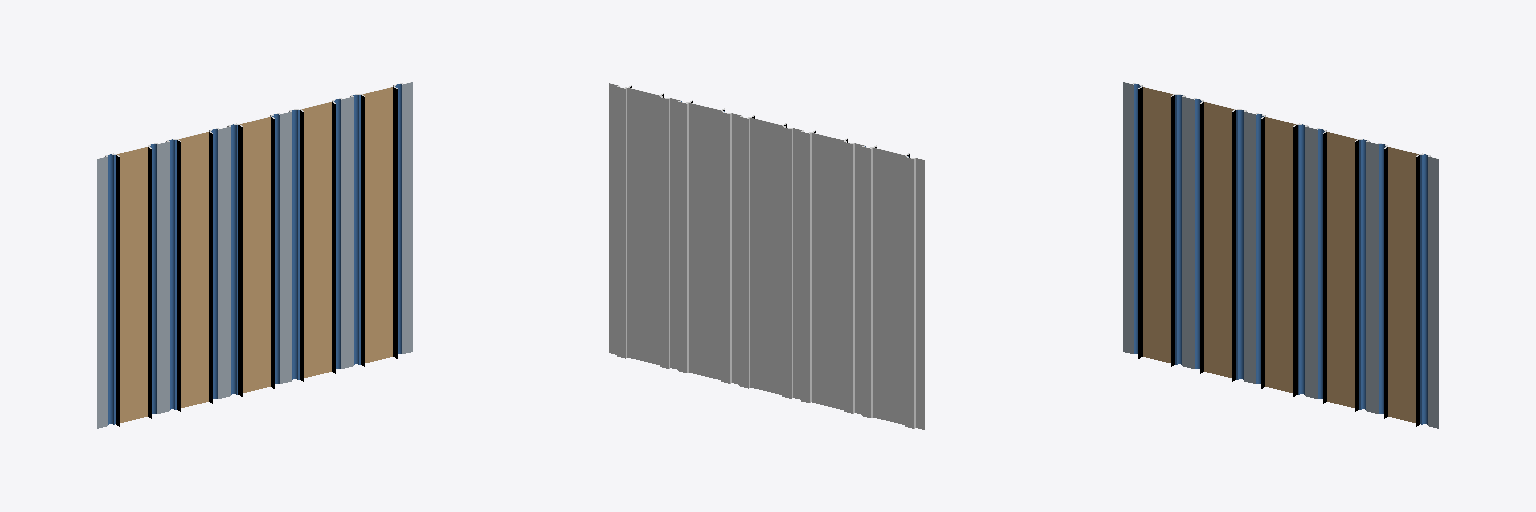
Rendered from bowlinglanes.obj.
3 views of the same model, side by side, from view 1: azimuth 30°, elevation 25°; view 2: azimuth 150°, elevation 25°; view 3: azimuth 330°, elevation 25° (orthographic).
Parts seen in each view (by area): view 1: mesh13, mesh57, mesh35, mesh101, mesh79, mesh27, mesh49, mesh89, mesh67, mesh113, mesh2, mesh6 (+28 smaller); view 2: mesh100, mesh12, mesh78, mesh34, mesh56, mesh46, mesh63, mesh1, mesh4, mesh19, mesh42, mesh70 (+15 smaller); view 3: mesh57, mesh101, mesh13, mesh79, mesh35, mesh89, mesh27, mesh67, mesh49, mesh2, mesh113, mesh110 (+28 smaller).
Part boxes in pixels (x1,y1,x2,y2): mesh13: (117, 147, 147, 422); mesh57: (240, 117, 270, 392); mesh35: (179, 132, 208, 407); mesh101: (363, 87, 392, 362); mesh79: (302, 102, 331, 377); mesh27: (157, 142, 169, 413); mesh49: (218, 127, 230, 398); mesh89: (341, 97, 353, 368); mesh67: (280, 112, 291, 383); mesh113: (402, 82, 412, 353); mesh2: (97, 157, 107, 428); mesh6: (108, 154, 113, 424); mesh100: (627, 88, 659, 364); mesh12: (873, 148, 905, 424); mesh78: (689, 103, 721, 379); mesh34: (812, 133, 843, 409); mesh56: (750, 118, 782, 394); mesh46: (782, 127, 791, 398); mesh63: (739, 117, 748, 388); mesh1: (916, 158, 924, 429); mesh4: (905, 157, 913, 428); mesh19: (844, 142, 852, 413); mesh42: (801, 132, 809, 402); mesh70: (721, 112, 729, 383); mesh57: (1265, 117, 1295, 392); mesh101: (1388, 147, 1418, 422); mesh13: (1143, 87, 1172, 362); mesh79: (1327, 132, 1356, 407); mesh35: (1204, 102, 1233, 377); mesh89: (1366, 142, 1378, 413); mesh27: (1182, 97, 1194, 368); mesh67: (1305, 127, 1317, 398); mesh49: (1244, 112, 1255, 383); mesh2: (1123, 82, 1133, 353); mesh113: (1428, 157, 1438, 428); mesh110: (1422, 154, 1427, 424).
Bounding box in the file's own units: 10.3 × 8.4 × 0.2806.